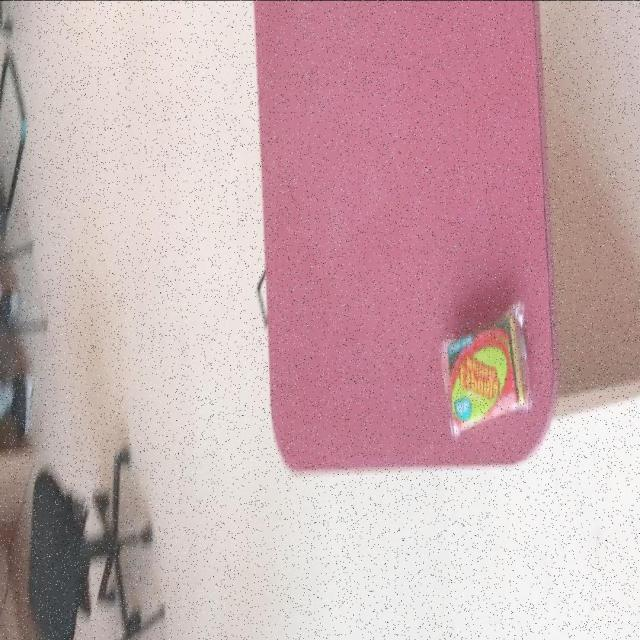Sponge: (439, 302, 530, 439)
